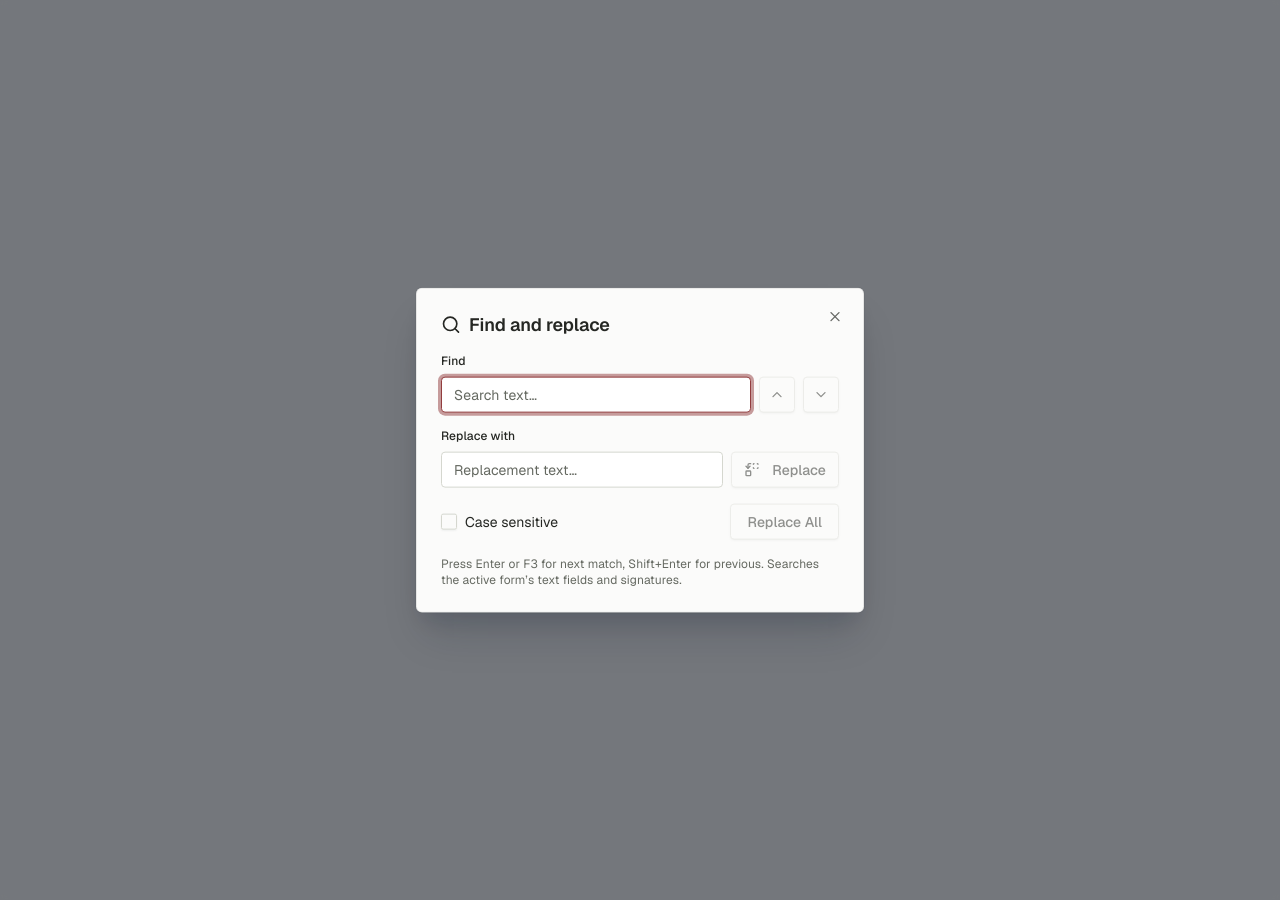
Test case: find and replace scope › only changes active navmc_10274 text and signatures
The image size is (1280, 900).
Type "alpha" into the field labelled "Find" at (596, 394), box [441,376,751,412]
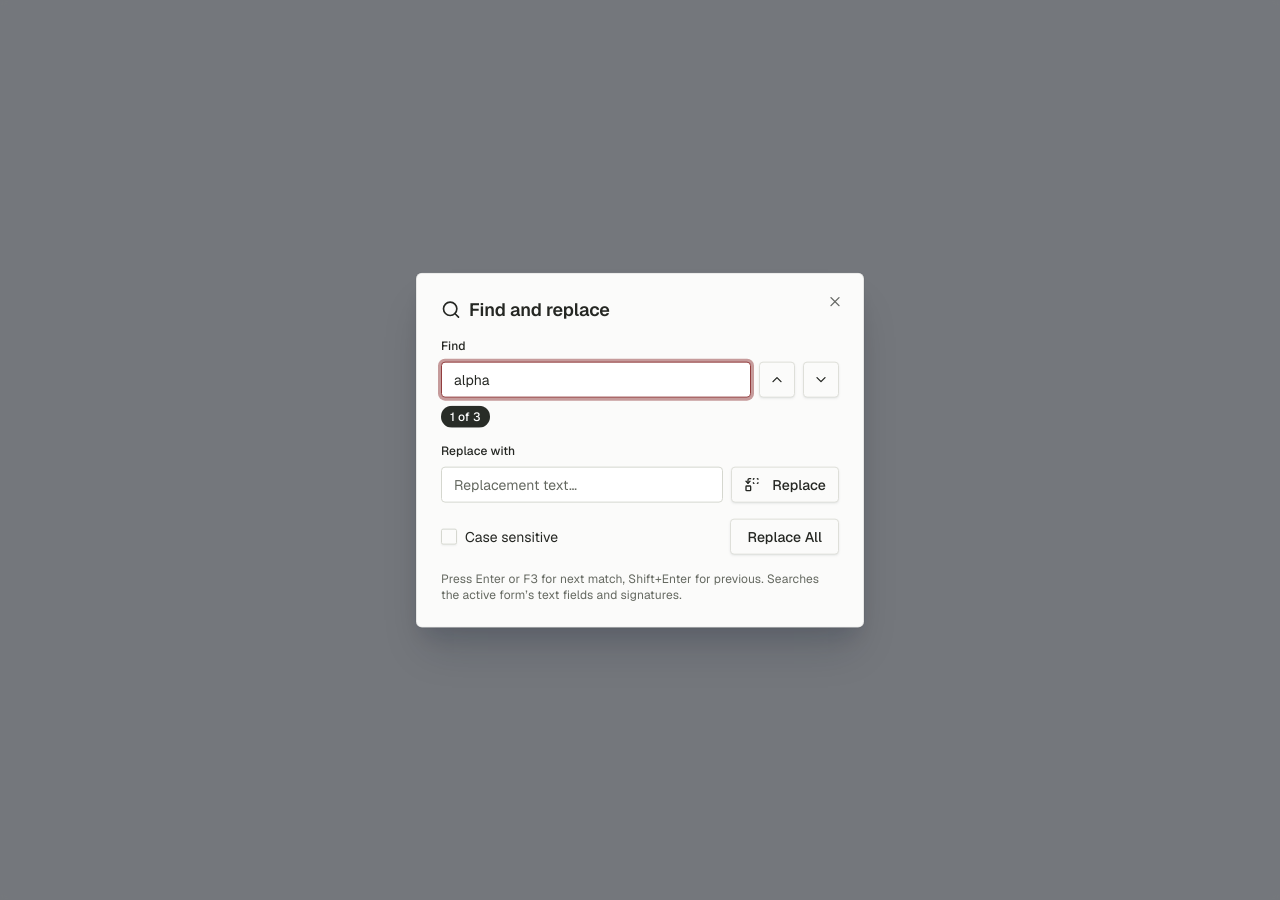
Type "$& done" into the field labelled "Replace with" at (582, 484), box [441,466,723,502]
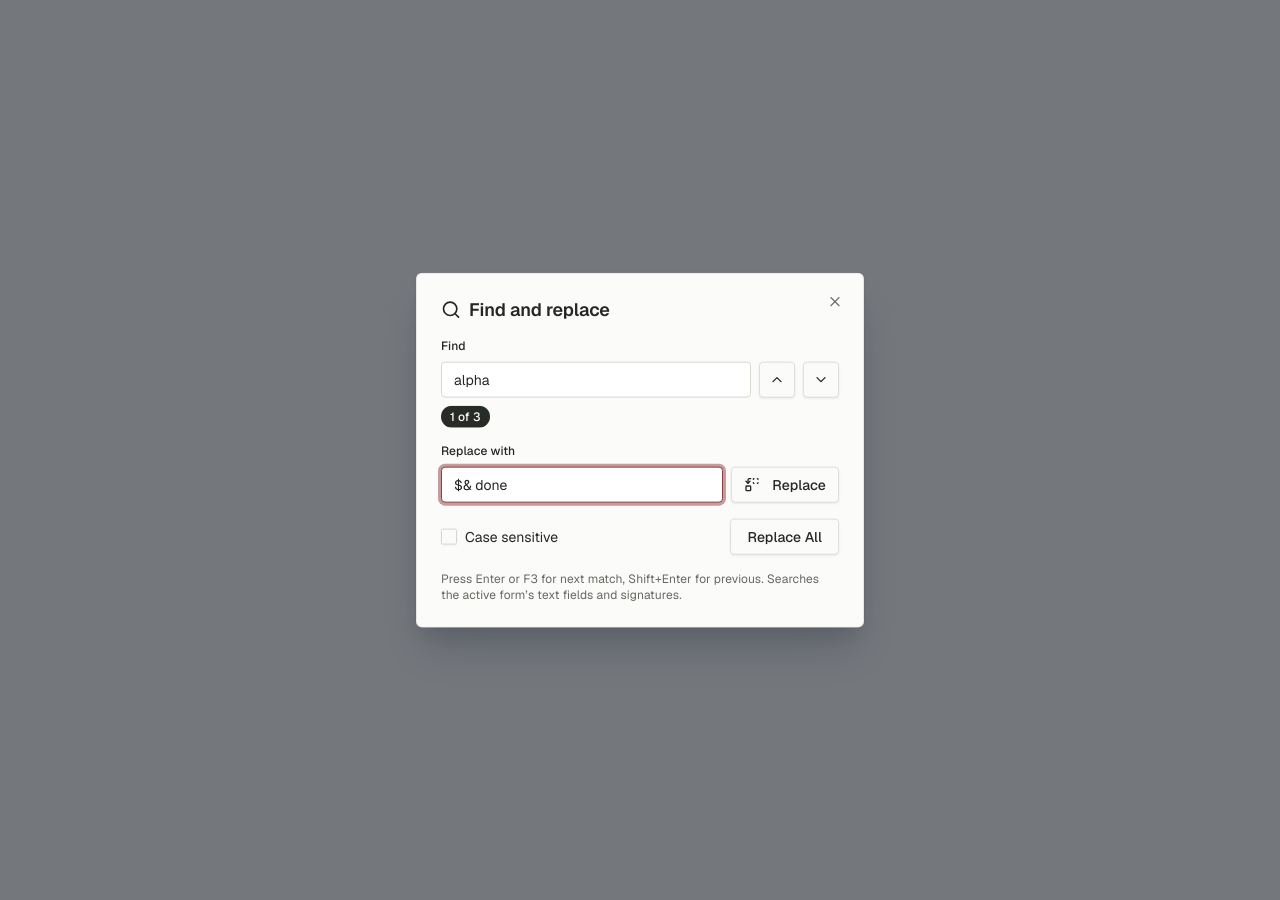
Now the text "1 of 3" is shown, box [441,405,490,427]
Click the button "Replace All" at (785, 536), box [730,518,839,554]
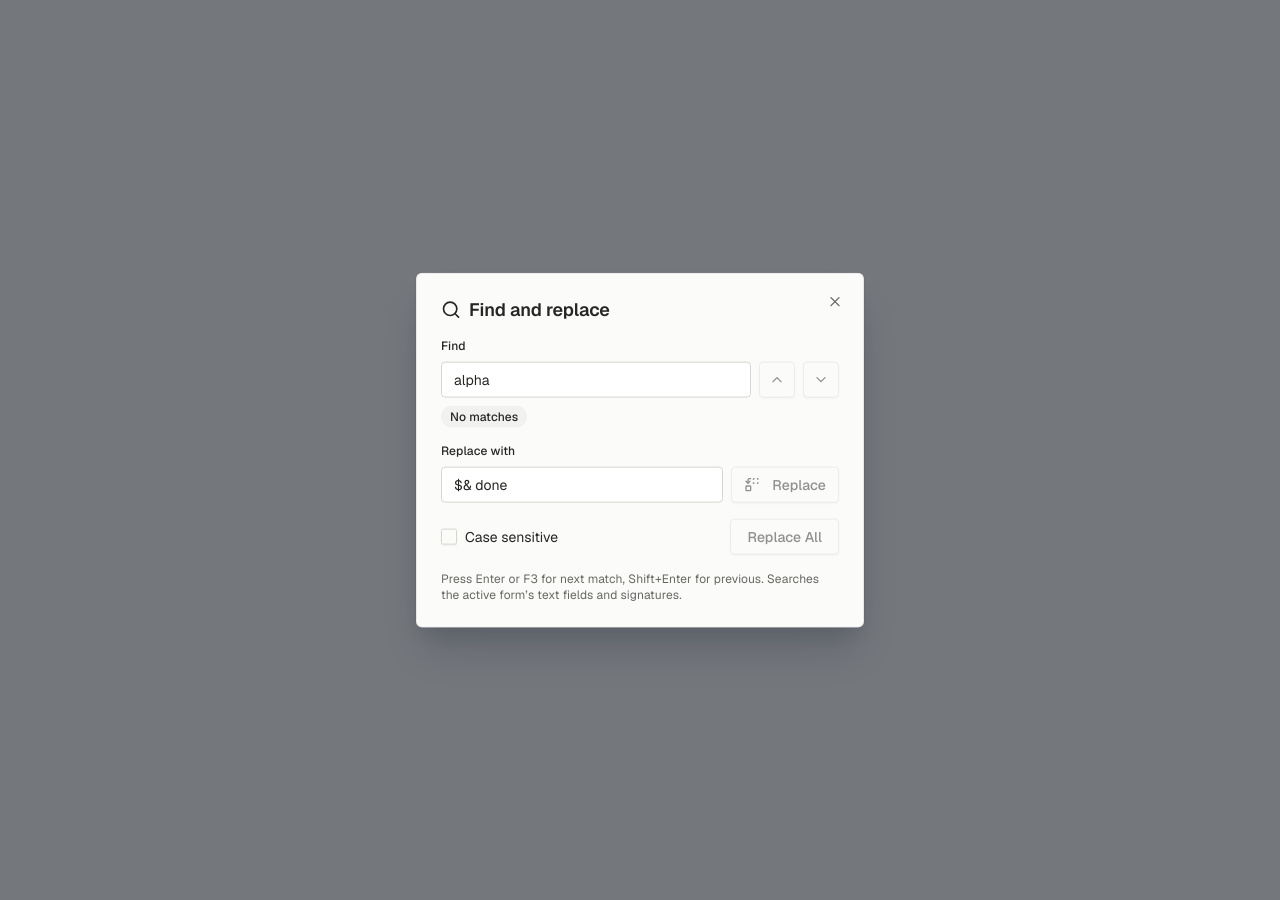
Now the text "No matches" is shown, box [441,405,527,427]
